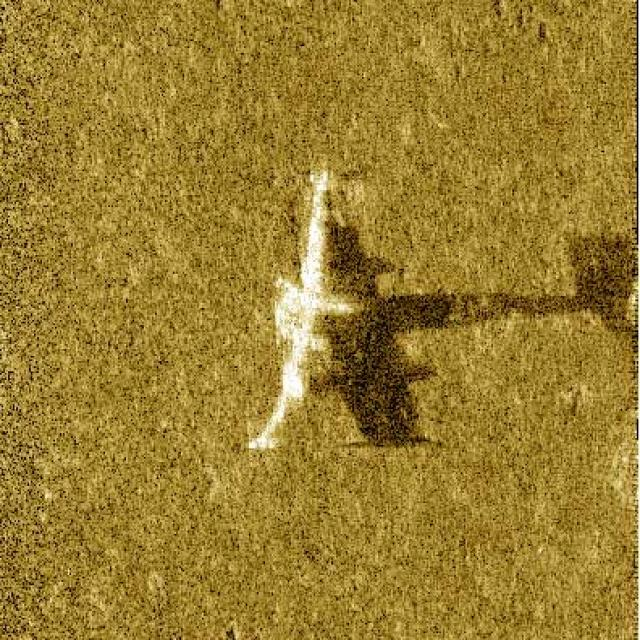plane: (216, 147, 384, 466)
